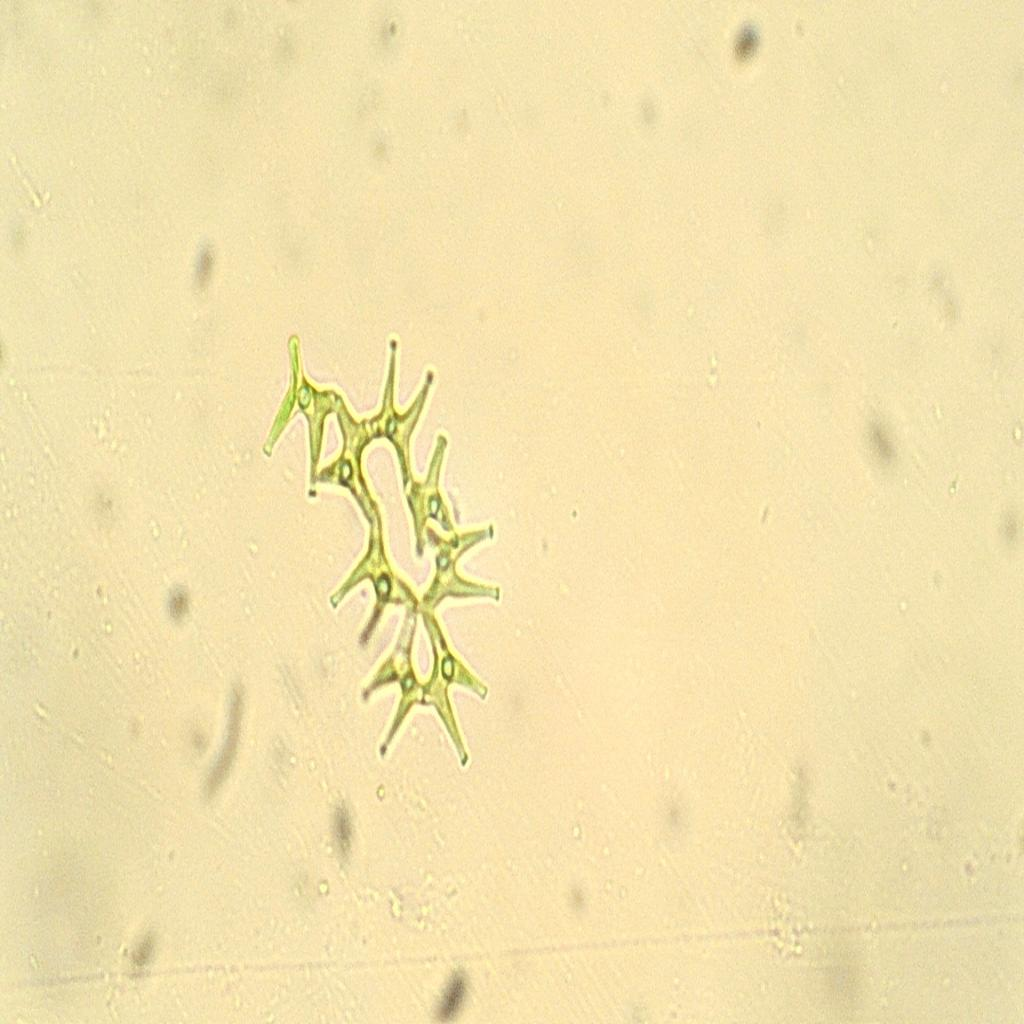Pediastrum_1TH: (255, 292, 522, 809)
